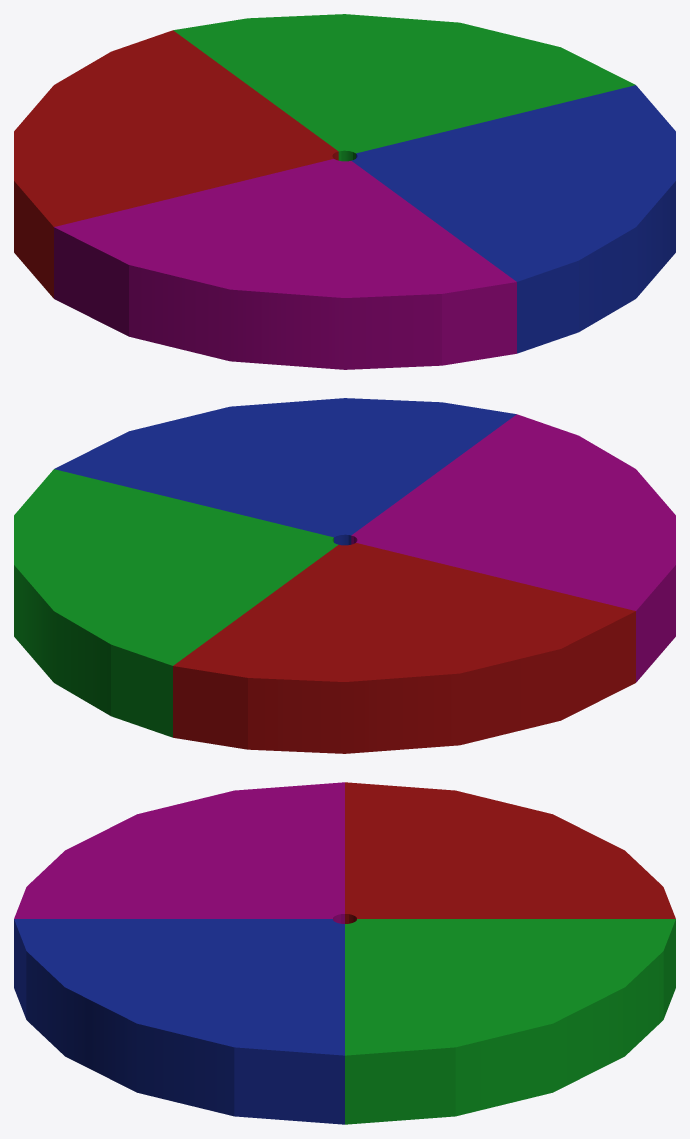
The model's file is EndThing2.FBX.
The picture shows the model from 3 angles, top to bottom: view 1: azimuth 30°, elevation 25°; view 2: azimuth 150°, elevation 25°; view 3: azimuth 270°, elevation 25°; orthographic projection. The views are drawn at different scales.
Parts seen in each view (by area): view 1: Group003; view 2: Group003; view 3: Group003.
Part boxes in pixels (left/top/right/bottom): Group003: left=14, top=14, right=675, bottom=369; Group003: left=14, top=398, right=675, bottom=753; Group003: left=14, top=782, right=675, bottom=1124.
Bounding box in the file's own units: 2.32 × 0.2735 × 2.38.
